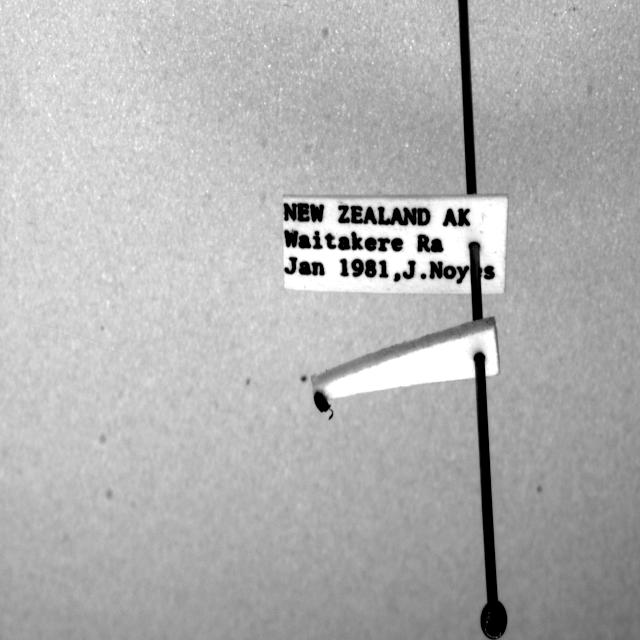typed_label: (281, 195, 508, 294)
